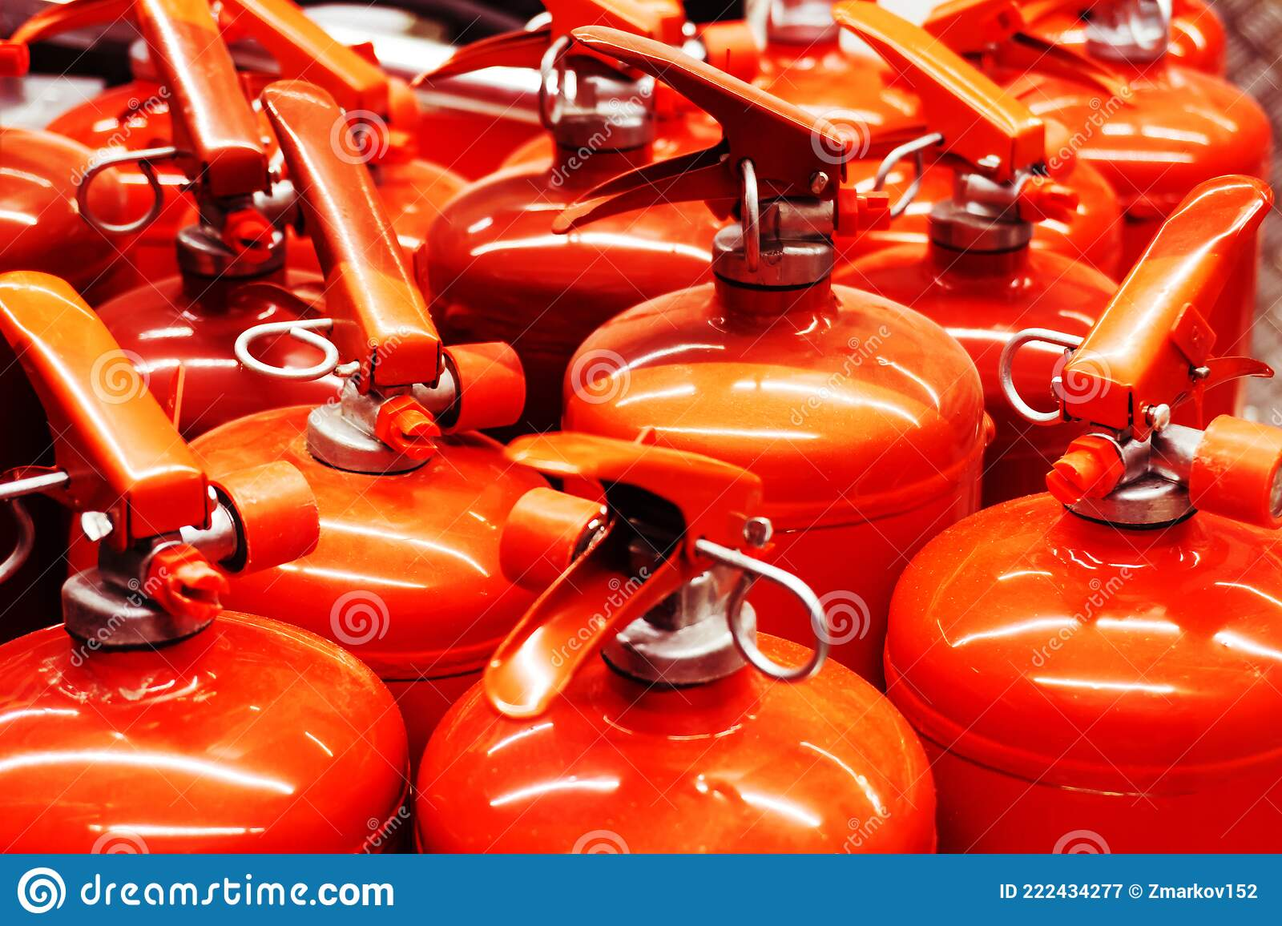fire_extinguisher: (4, 2, 1277, 858)
